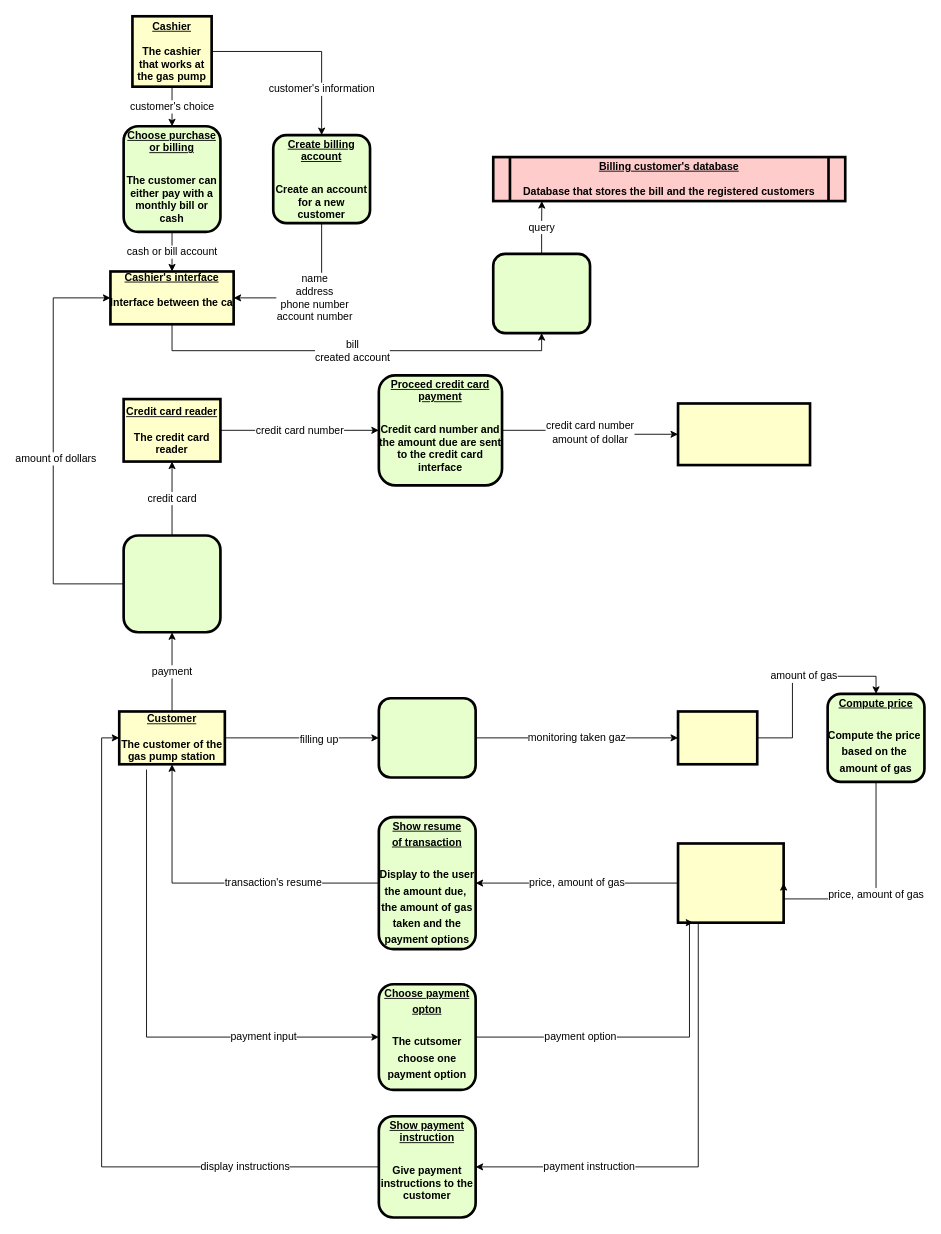
Image size: 941x1234. Some labels were removed from this diagram. Here are the shapes that lost their labels. From the top down, the centre of each, then its label:
At point 541,293: "Update database Add the billing information to the database".
At point 743,434: "Credit card interface The credit card payment intereface".
At point 171,583: "Proceed payment Either the customer insert its credit card or go to the cashier".
At point 427,737: "Pumping Customer takes fuel at the pump".
At point 717,737: "Gas pump The pump itself".
At point 730,883: "Gas pump interface The interface betweent he customer and the gas pump".
